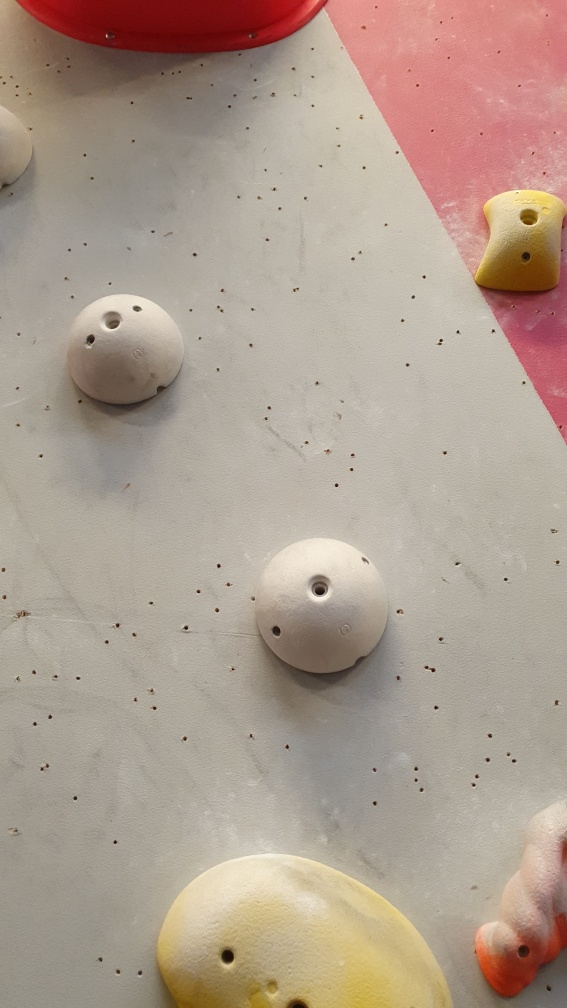Jug: (477, 797, 567, 1000)
Pinch: (473, 191, 565, 299)
Sloper: (257, 538, 390, 679), (67, 291, 187, 409)
